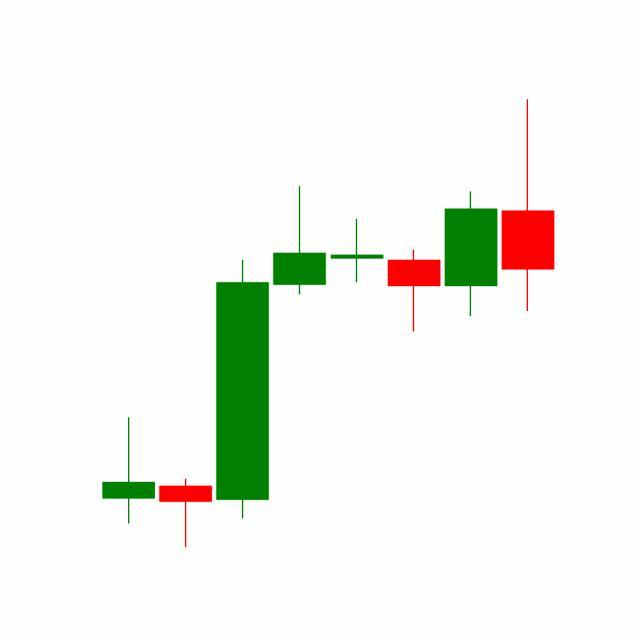Hikkake Pattern: (214, 183, 501, 523)
